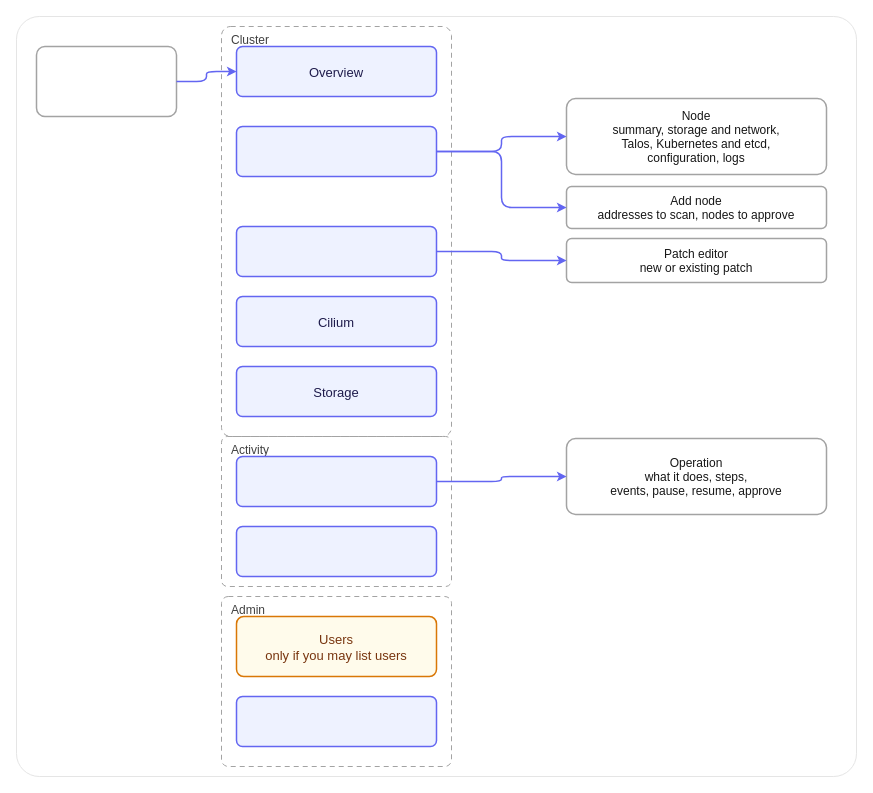
Image size: 873x793. Some labels were removed from this diagram. The centre of each missing label's shape, as x and y in pixels:
"Backups" goes at (x=336, y=551).
"Configuration" goes at (x=336, y=251).
"Nodes" goes at (x=336, y=151).
"Operations" goes at (x=336, y=481).
"Settings" goes at (x=336, y=721).
"Sign in password or identity provider" goes at (x=106, y=81).
